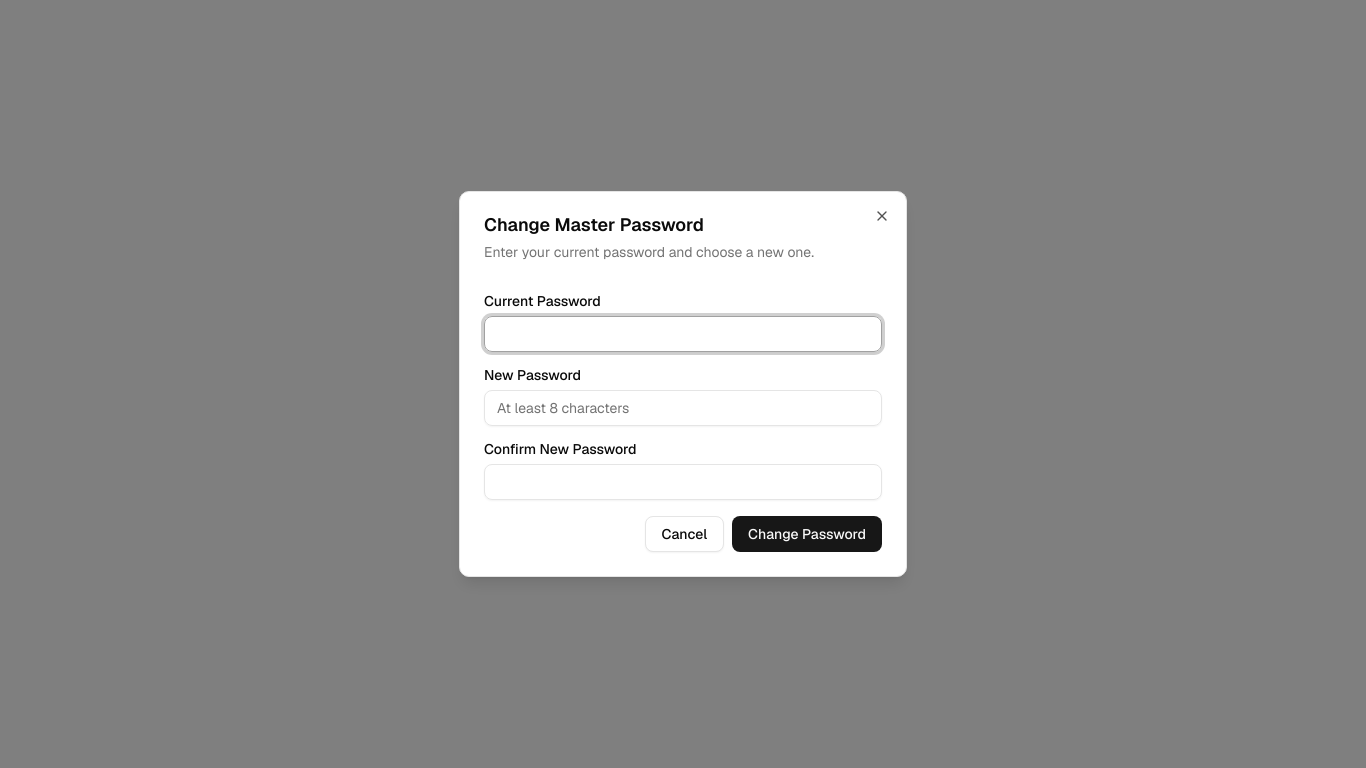
ChangePasswordDialog › shows error when passwords do not match
The width and height of the screenshot is (1366, 768).
Type "oldpass123" into the password field labelled "Current Password".
click(683, 334); type("oldpass123")  # box [484,316,882,352]
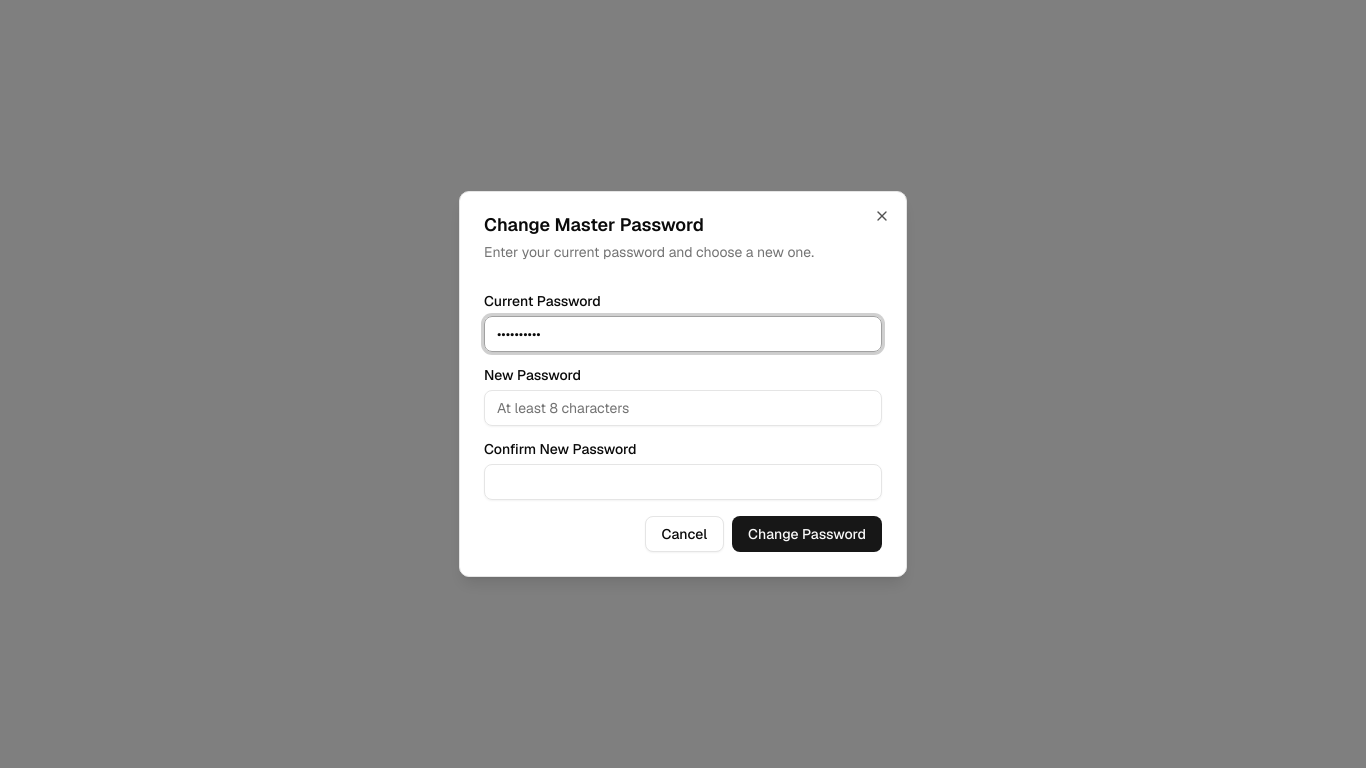
Type "newpassword1" into the password field labelled "New Password".
click(683, 408); type("newpassword1")  # box [484,390,882,426]
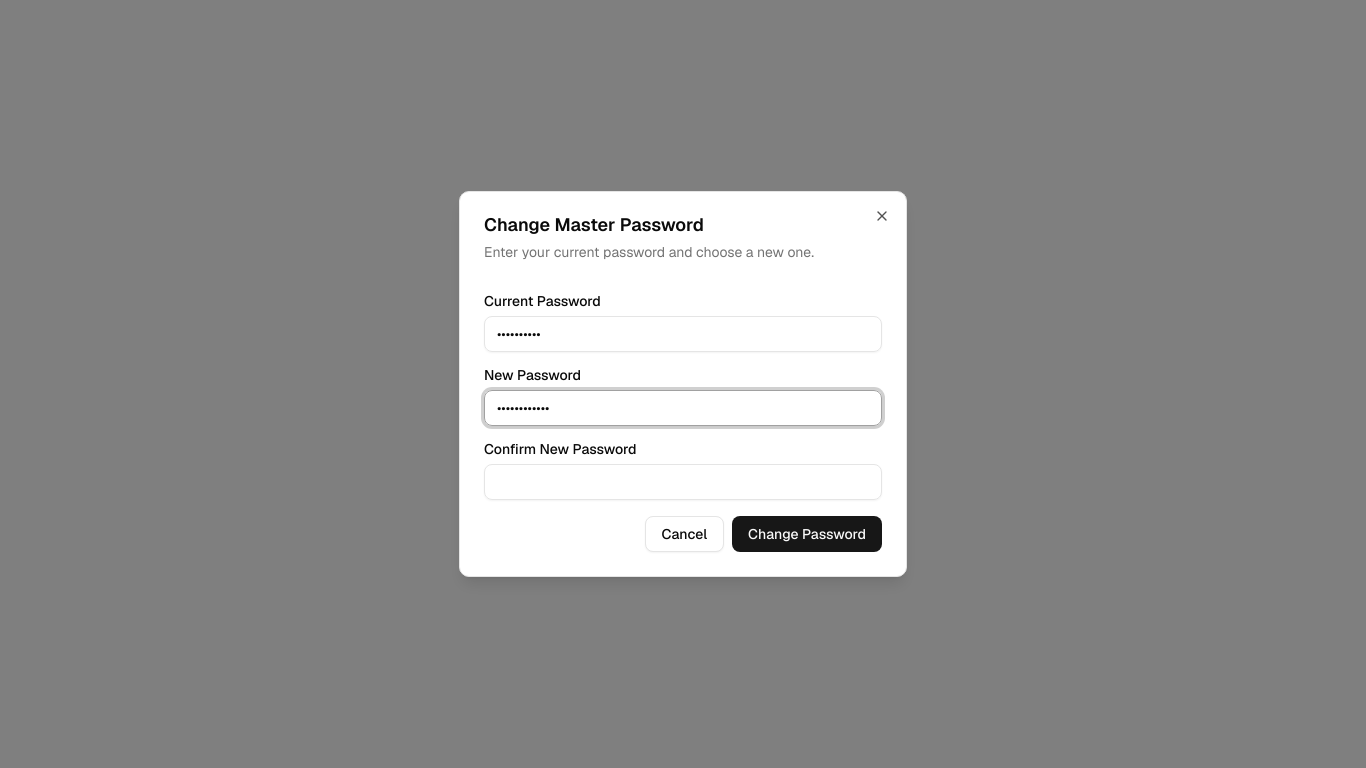
Type "newpassword2" into the password field labelled "Confirm New Password".
click(683, 482); type("newpassword2")  # box [484,464,882,500]
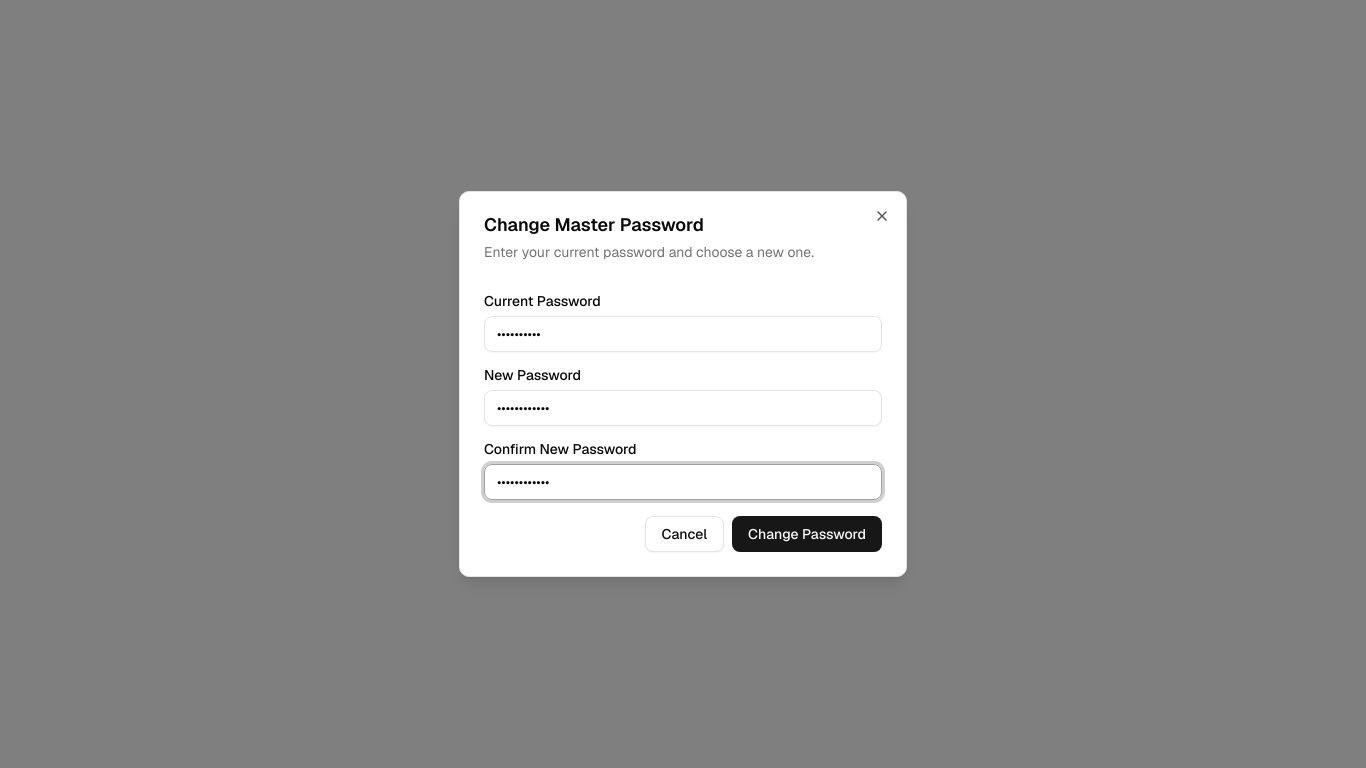
Click the button "Change Password".
click(807, 534)  # box [732,516,882,552]
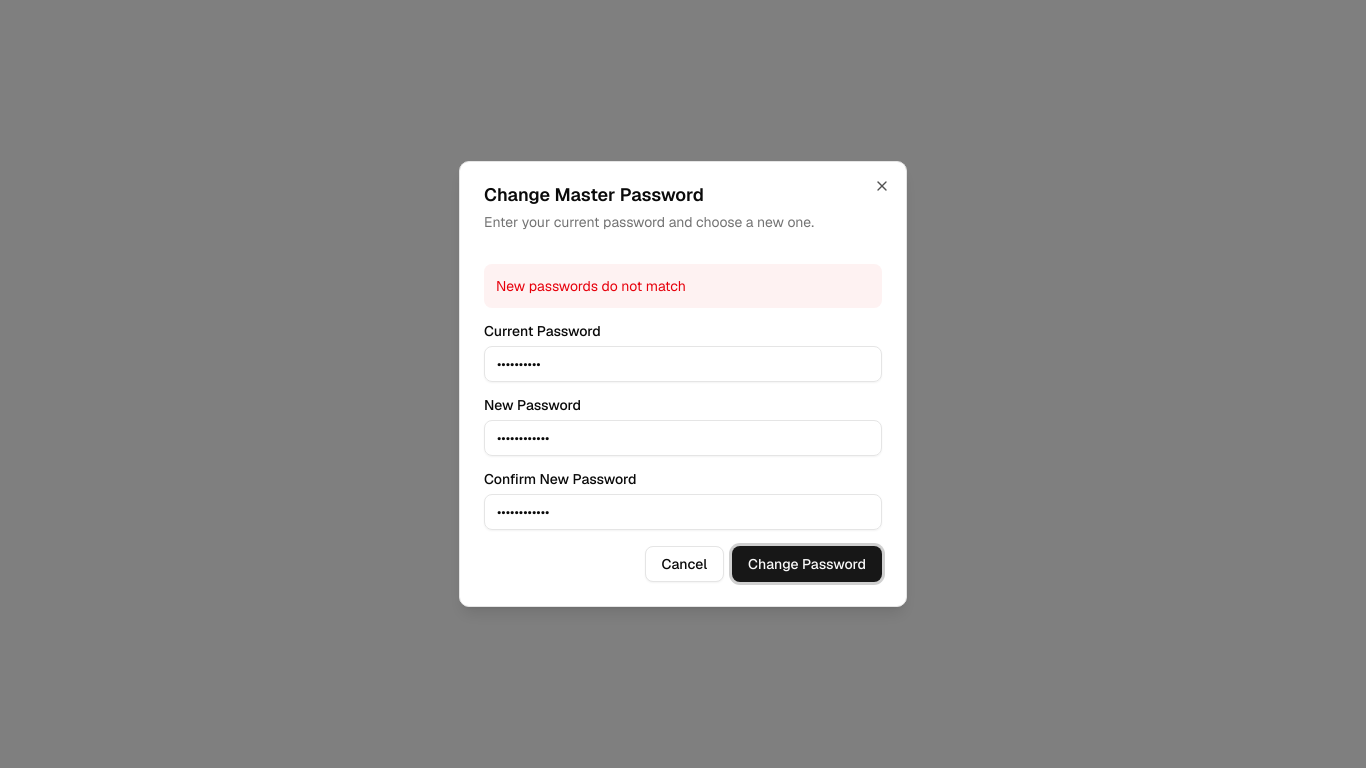
expect the text "New passwords do not match" is shown: met, box [484,264,882,308]
